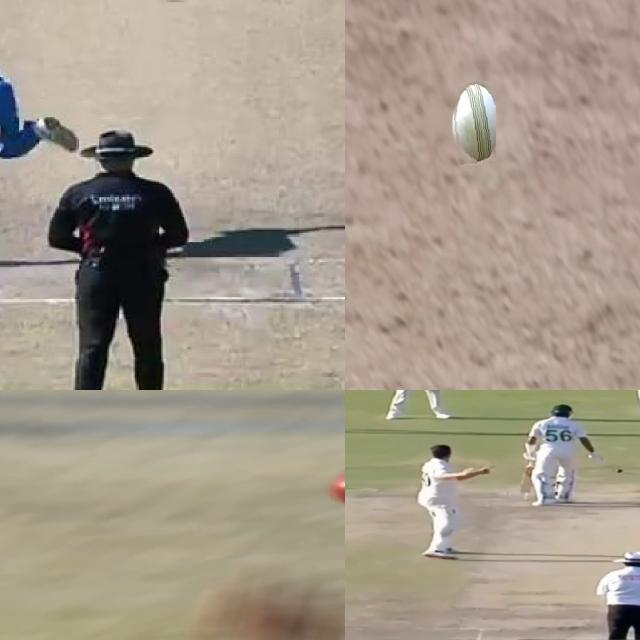Cricket ball: (451, 81, 496, 165), (330, 465, 345, 513)
